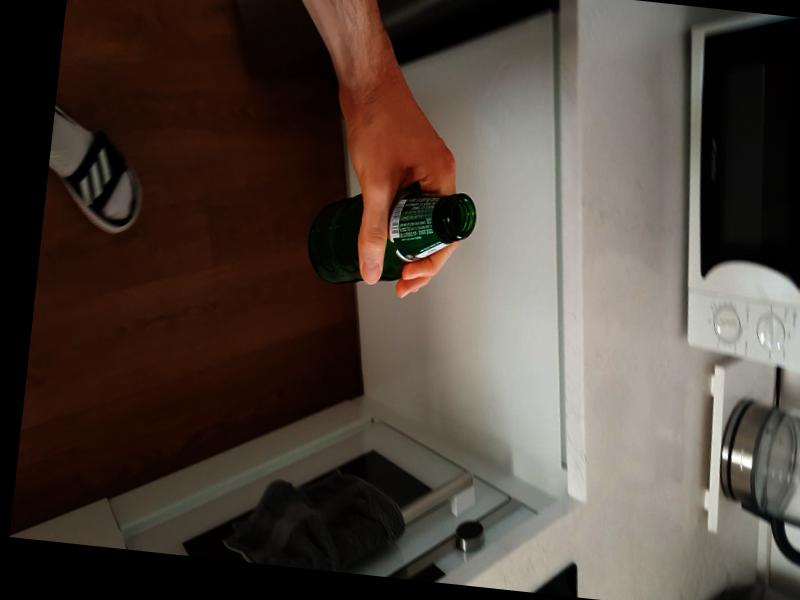Beer: (303, 177, 476, 297)
